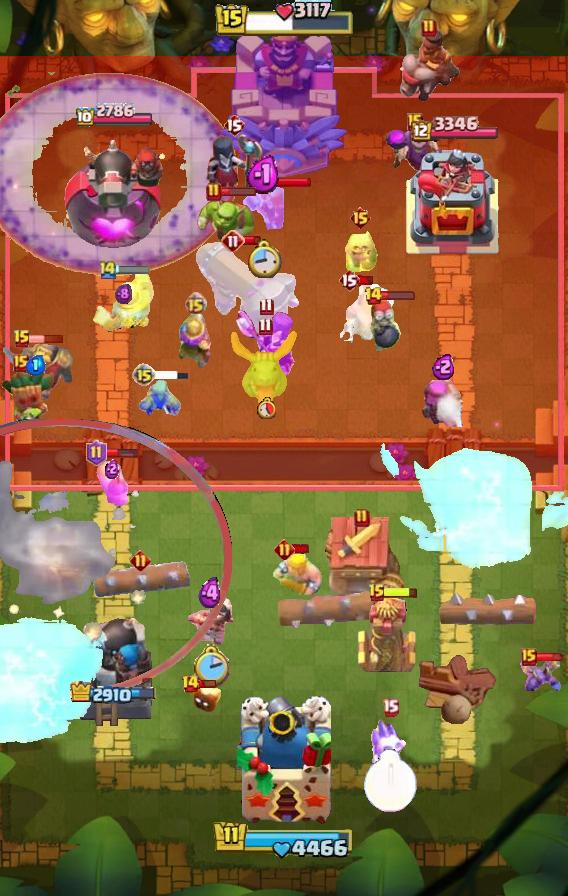bar: (260, 176, 312, 188), (383, 586, 419, 599), (154, 369, 190, 381), (220, 186, 257, 197), (105, 447, 138, 459), (380, 290, 416, 301), (116, 264, 151, 275), (29, 334, 64, 344), (534, 652, 566, 662), (292, 543, 311, 555), (197, 678, 217, 689), (243, 235, 262, 246), (358, 275, 375, 286)
bar-level: (132, 363, 156, 387), (221, 229, 245, 253), (349, 206, 372, 230), (86, 440, 107, 466), (184, 292, 207, 315), (338, 268, 360, 292), (223, 113, 245, 137), (130, 550, 151, 571), (274, 539, 295, 560), (98, 259, 118, 280), (181, 674, 200, 694), (364, 286, 383, 306), (368, 583, 386, 603), (13, 329, 31, 349), (382, 698, 399, 717), (354, 508, 370, 528), (206, 182, 222, 202), (421, 18, 437, 38), (521, 648, 537, 666), (13, 354, 29, 372), (407, 113, 423, 131), (258, 317, 273, 336), (259, 297, 274, 316)
barbarian: (272, 554, 326, 602)
bomber: (368, 298, 404, 354)
cannoneer-tower: (61, 132, 168, 256), (71, 611, 157, 731)
clock: (363, 749, 418, 813), (192, 644, 229, 687), (247, 239, 282, 278), (257, 397, 276, 419)
dart-goblin: (0, 368, 58, 434)
elixir: (246, 155, 282, 195), (198, 577, 223, 610), (432, 353, 456, 380), (26, 355, 46, 376), (115, 283, 132, 305), (105, 458, 119, 479)
fire-spirit: (191, 682, 221, 714)
firecracker: (419, 371, 469, 427)
goblin: (138, 376, 182, 418)
goblin-brawler: (196, 194, 258, 254)
heal-spirit: (341, 225, 379, 273)
ice-spirit-evolution: (370, 719, 410, 769)
king-tower: (219, 23, 349, 181), (237, 696, 331, 826)
king-tower-bar: (212, 819, 356, 861), (213, 0, 355, 40)
knight: (0, 342, 74, 402), (92, 269, 155, 333)
lumberjack: (333, 284, 395, 350)
minion: (518, 653, 562, 699)
mother-witch: (384, 121, 446, 175)
musketeer: (179, 310, 211, 370)
night-witch: (235, 307, 297, 379), (204, 132, 264, 202)
princess: (184, 595, 236, 647)
queen-tower: (403, 146, 503, 256)
ram-rider: (396, 27, 462, 103)
royal-hog: (96, 454, 128, 506)
tesla: (356, 593, 418, 677)
the-log: (438, 589, 538, 631), (277, 588, 379, 628), (90, 561, 190, 597)
tower-bar: (408, 116, 498, 144), (70, 681, 158, 707), (75, 103, 154, 129)
valkyrie: (241, 186, 287, 232)
